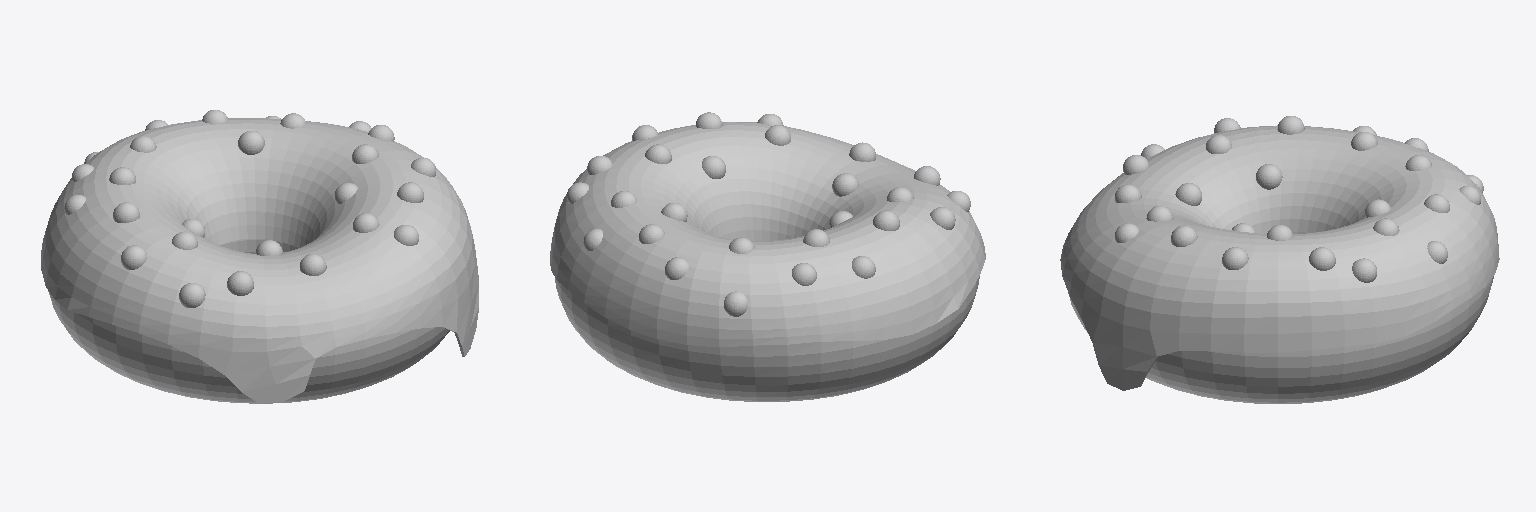
Rendered from donut.obj.
3 views of the same model, side by side, from view 1: azimuth 30°, elevation 25°; view 2: azimuth 150°, elevation 25°; view 3: azimuth 270°, elevation 25° (orthographic).
Visible parts, largest first — view 1: icing_Torus.003, donut_base_Torus.001, Sphere.016, Sphere.025; view 2: icing_Torus.003, donut_base_Torus.001; view 3: icing_Torus.003, donut_base_Torus.001, Sphere.024.
Boxes of the visible parts, <box> form: icing_Torus.003: <box>41,118,478,402</box>; donut_base_Torus.001: <box>48,239,449,403</box>; Sphere.016: <box>227,271,253,295</box>; Sphere.025: <box>179,283,205,307</box>; icing_Torus.003: <box>550,122,985,346</box>; donut_base_Torus.001: <box>555,276,979,401</box>; icing_Torus.003: <box>1060,125,1499,390</box>; donut_base_Torus.001: <box>1068,276,1493,403</box>; Sphere.024: <box>1256,164,1282,189</box>.
Bounding box in the file's own units: 0.1607 × 0.0677 × 0.1611.